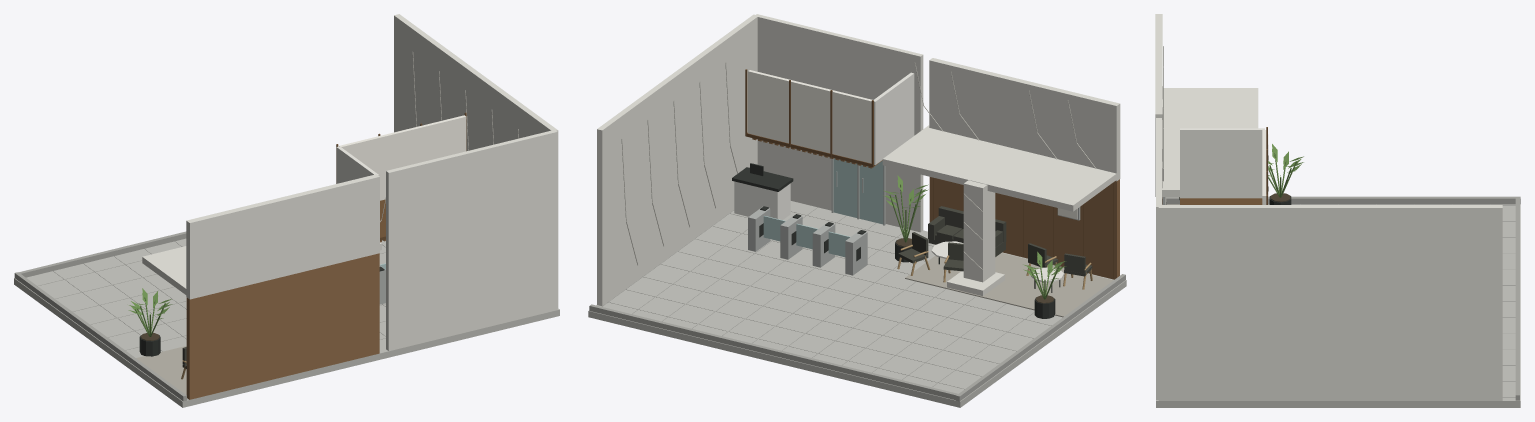
Rendered from 61a-interior.glb.
The picture shows the model from 3 angles, left to right: view 1: azimuth 30°, elevation 25°; view 2: azimuth 150°, elevation 25°; view 3: azimuth 270°, elevation 25°; orthographic projection. The views are drawn at different scales.
Visible parts, largest first — view 1: 61A_INTERIOR; view 2: 61A_INTERIOR; view 3: 61A_INTERIOR.
Boxes of the visible parts, box(x1,y1,x2,y2) form: 61A_INTERIOR: box(14, 14, 559, 407); 61A_INTERIOR: box(588, 14, 1126, 407); 61A_INTERIOR: box(1155, 14, 1520, 407).
Size of the model in its own units: 12.4 by 5.8 by 9.62.
